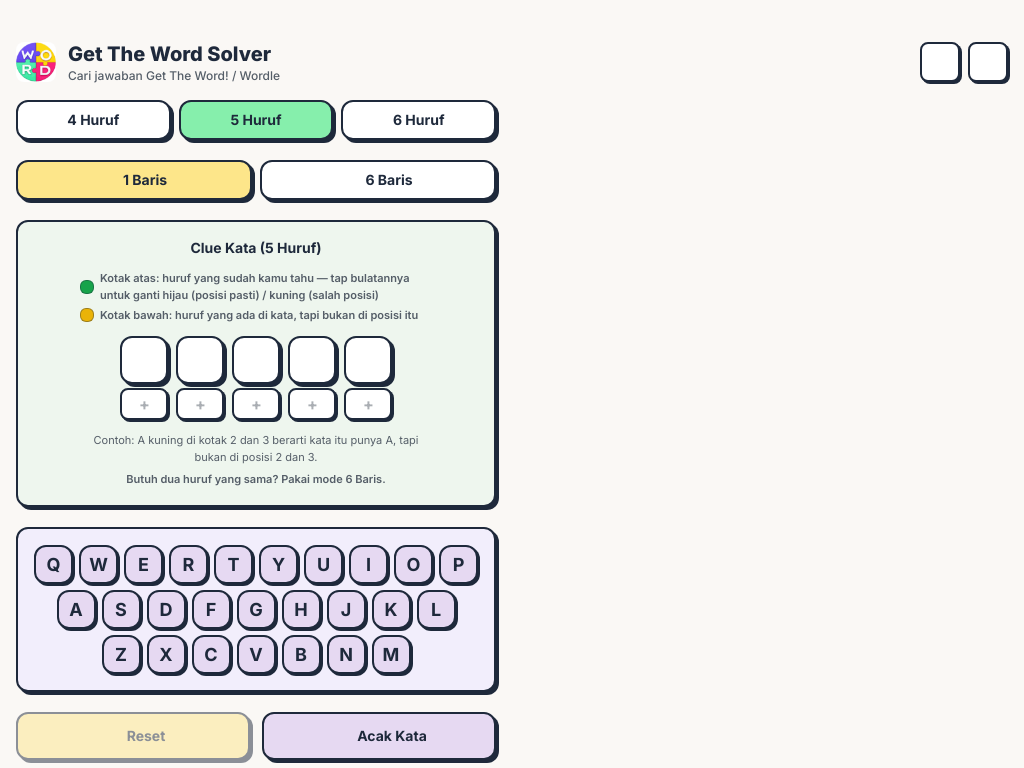
Test: settings popups › does not reopen the session popup the next time Settings opens
Type "S" into the field named "Huruf hijau posisi 1" at (144, 360), box [120, 336, 168, 384]
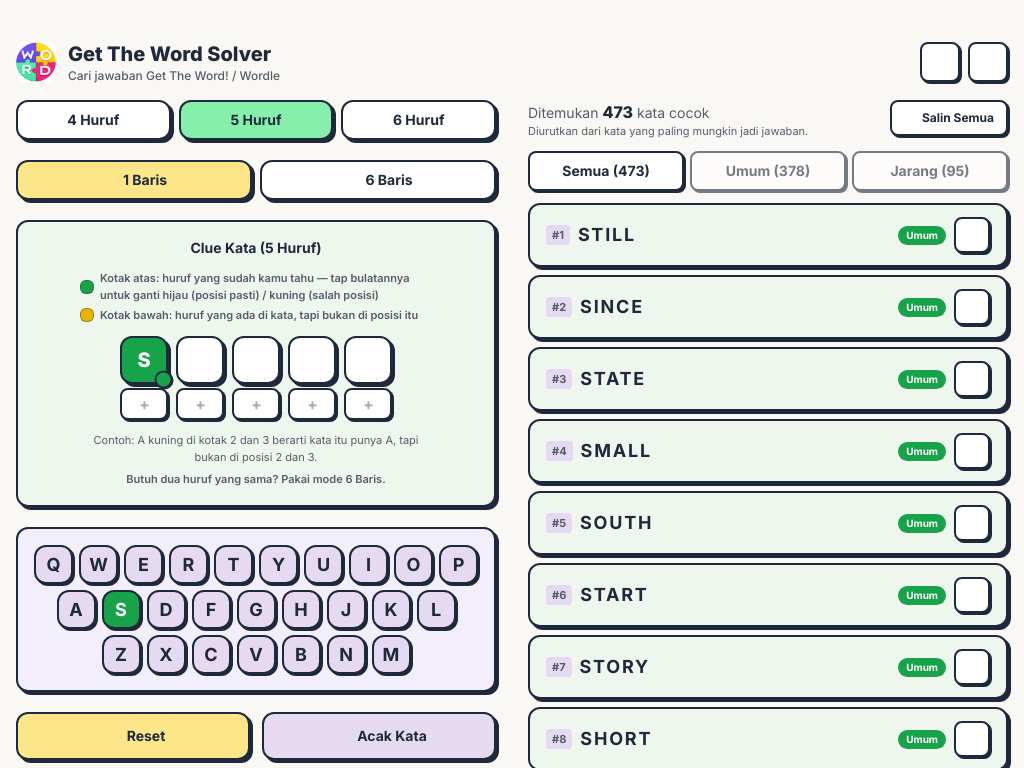
Click the button named "Settings" at (988, 62), box [968, 42, 1008, 82]
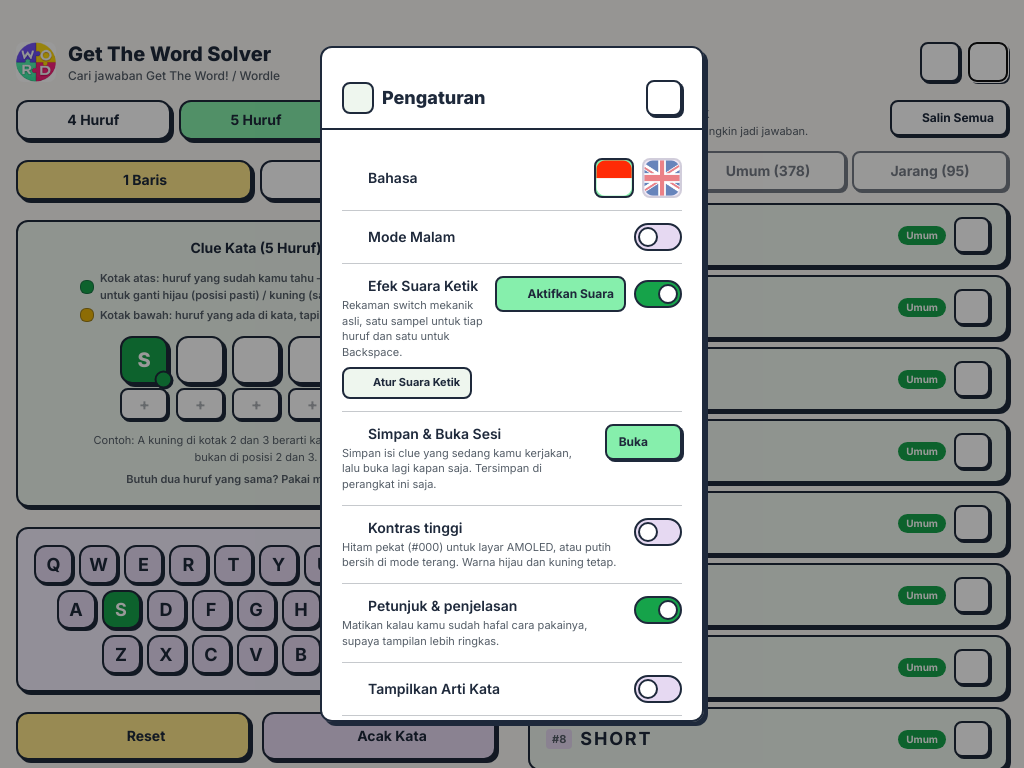
Click the button with aria-label "Kelola sesi tersimpan" at (643, 442), box [605, 424, 682, 460]
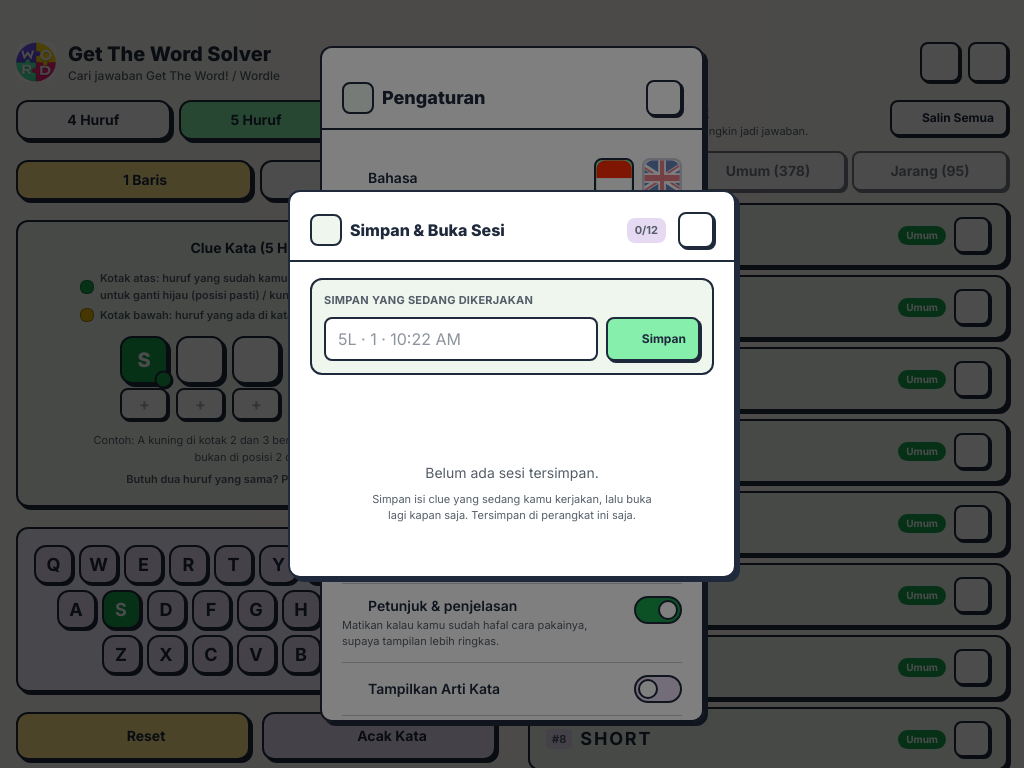
Click the button "Simpan" at (653, 339), box [606, 317, 700, 361]
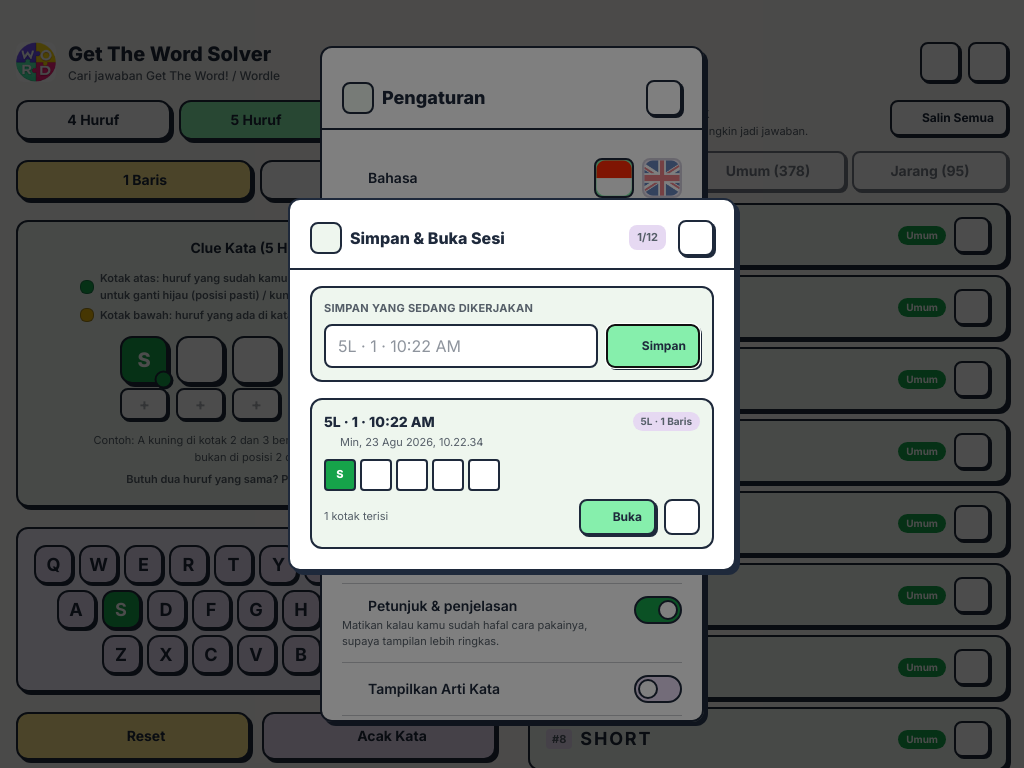
Click the button with aria-label "Buka sesi" at (617, 516), box [579, 498, 656, 534]
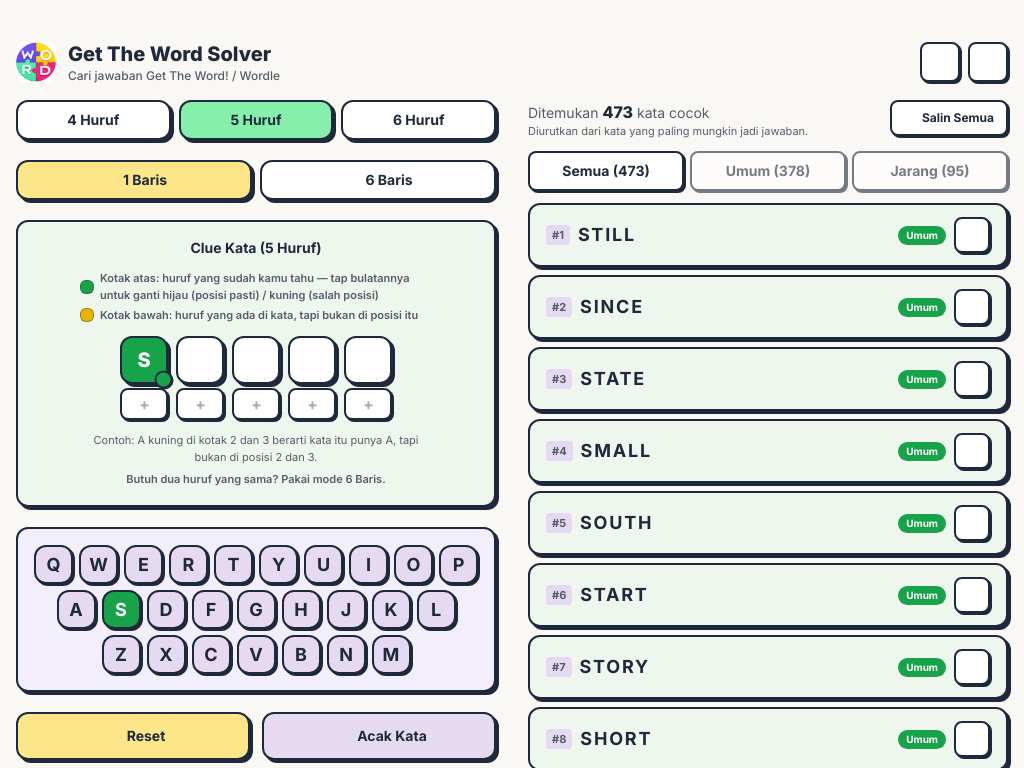
Check: the dialog "Simpan & Buka Sesi" is gone
Note: Reopening Settings must land on Settings, not back inside the popup.
Click the button named "Settings" at (988, 62), box [968, 42, 1008, 82]
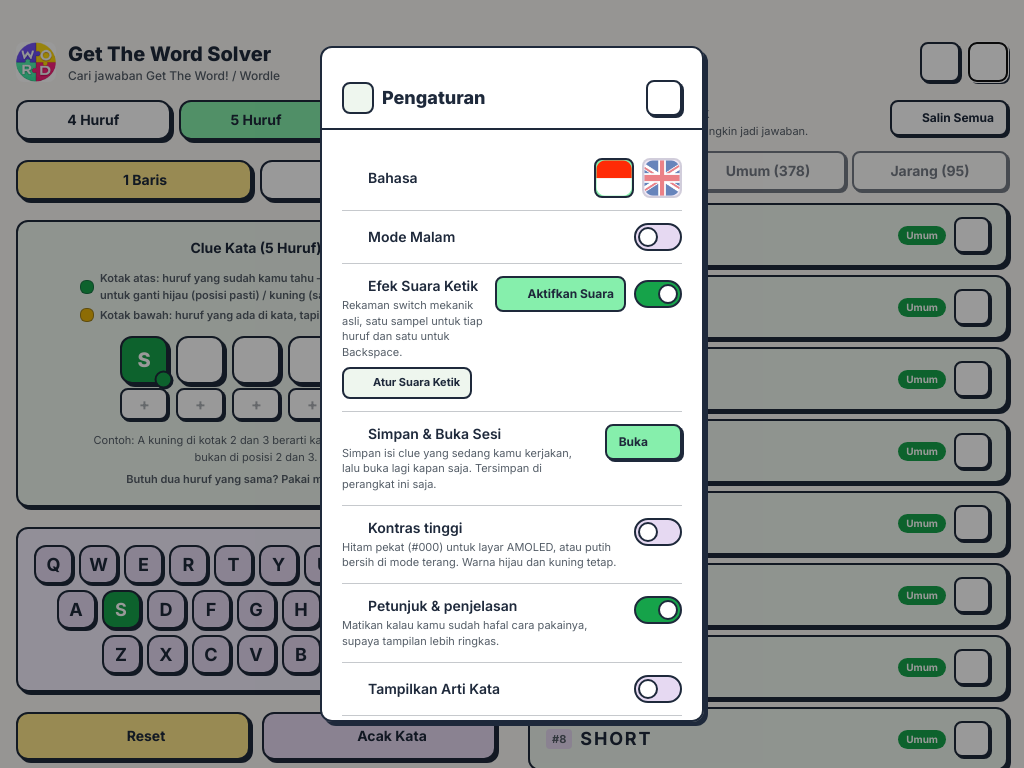
Check: the button with aria-label "Kelola sesi tersimpan" is shown, box [605, 424, 682, 460]
